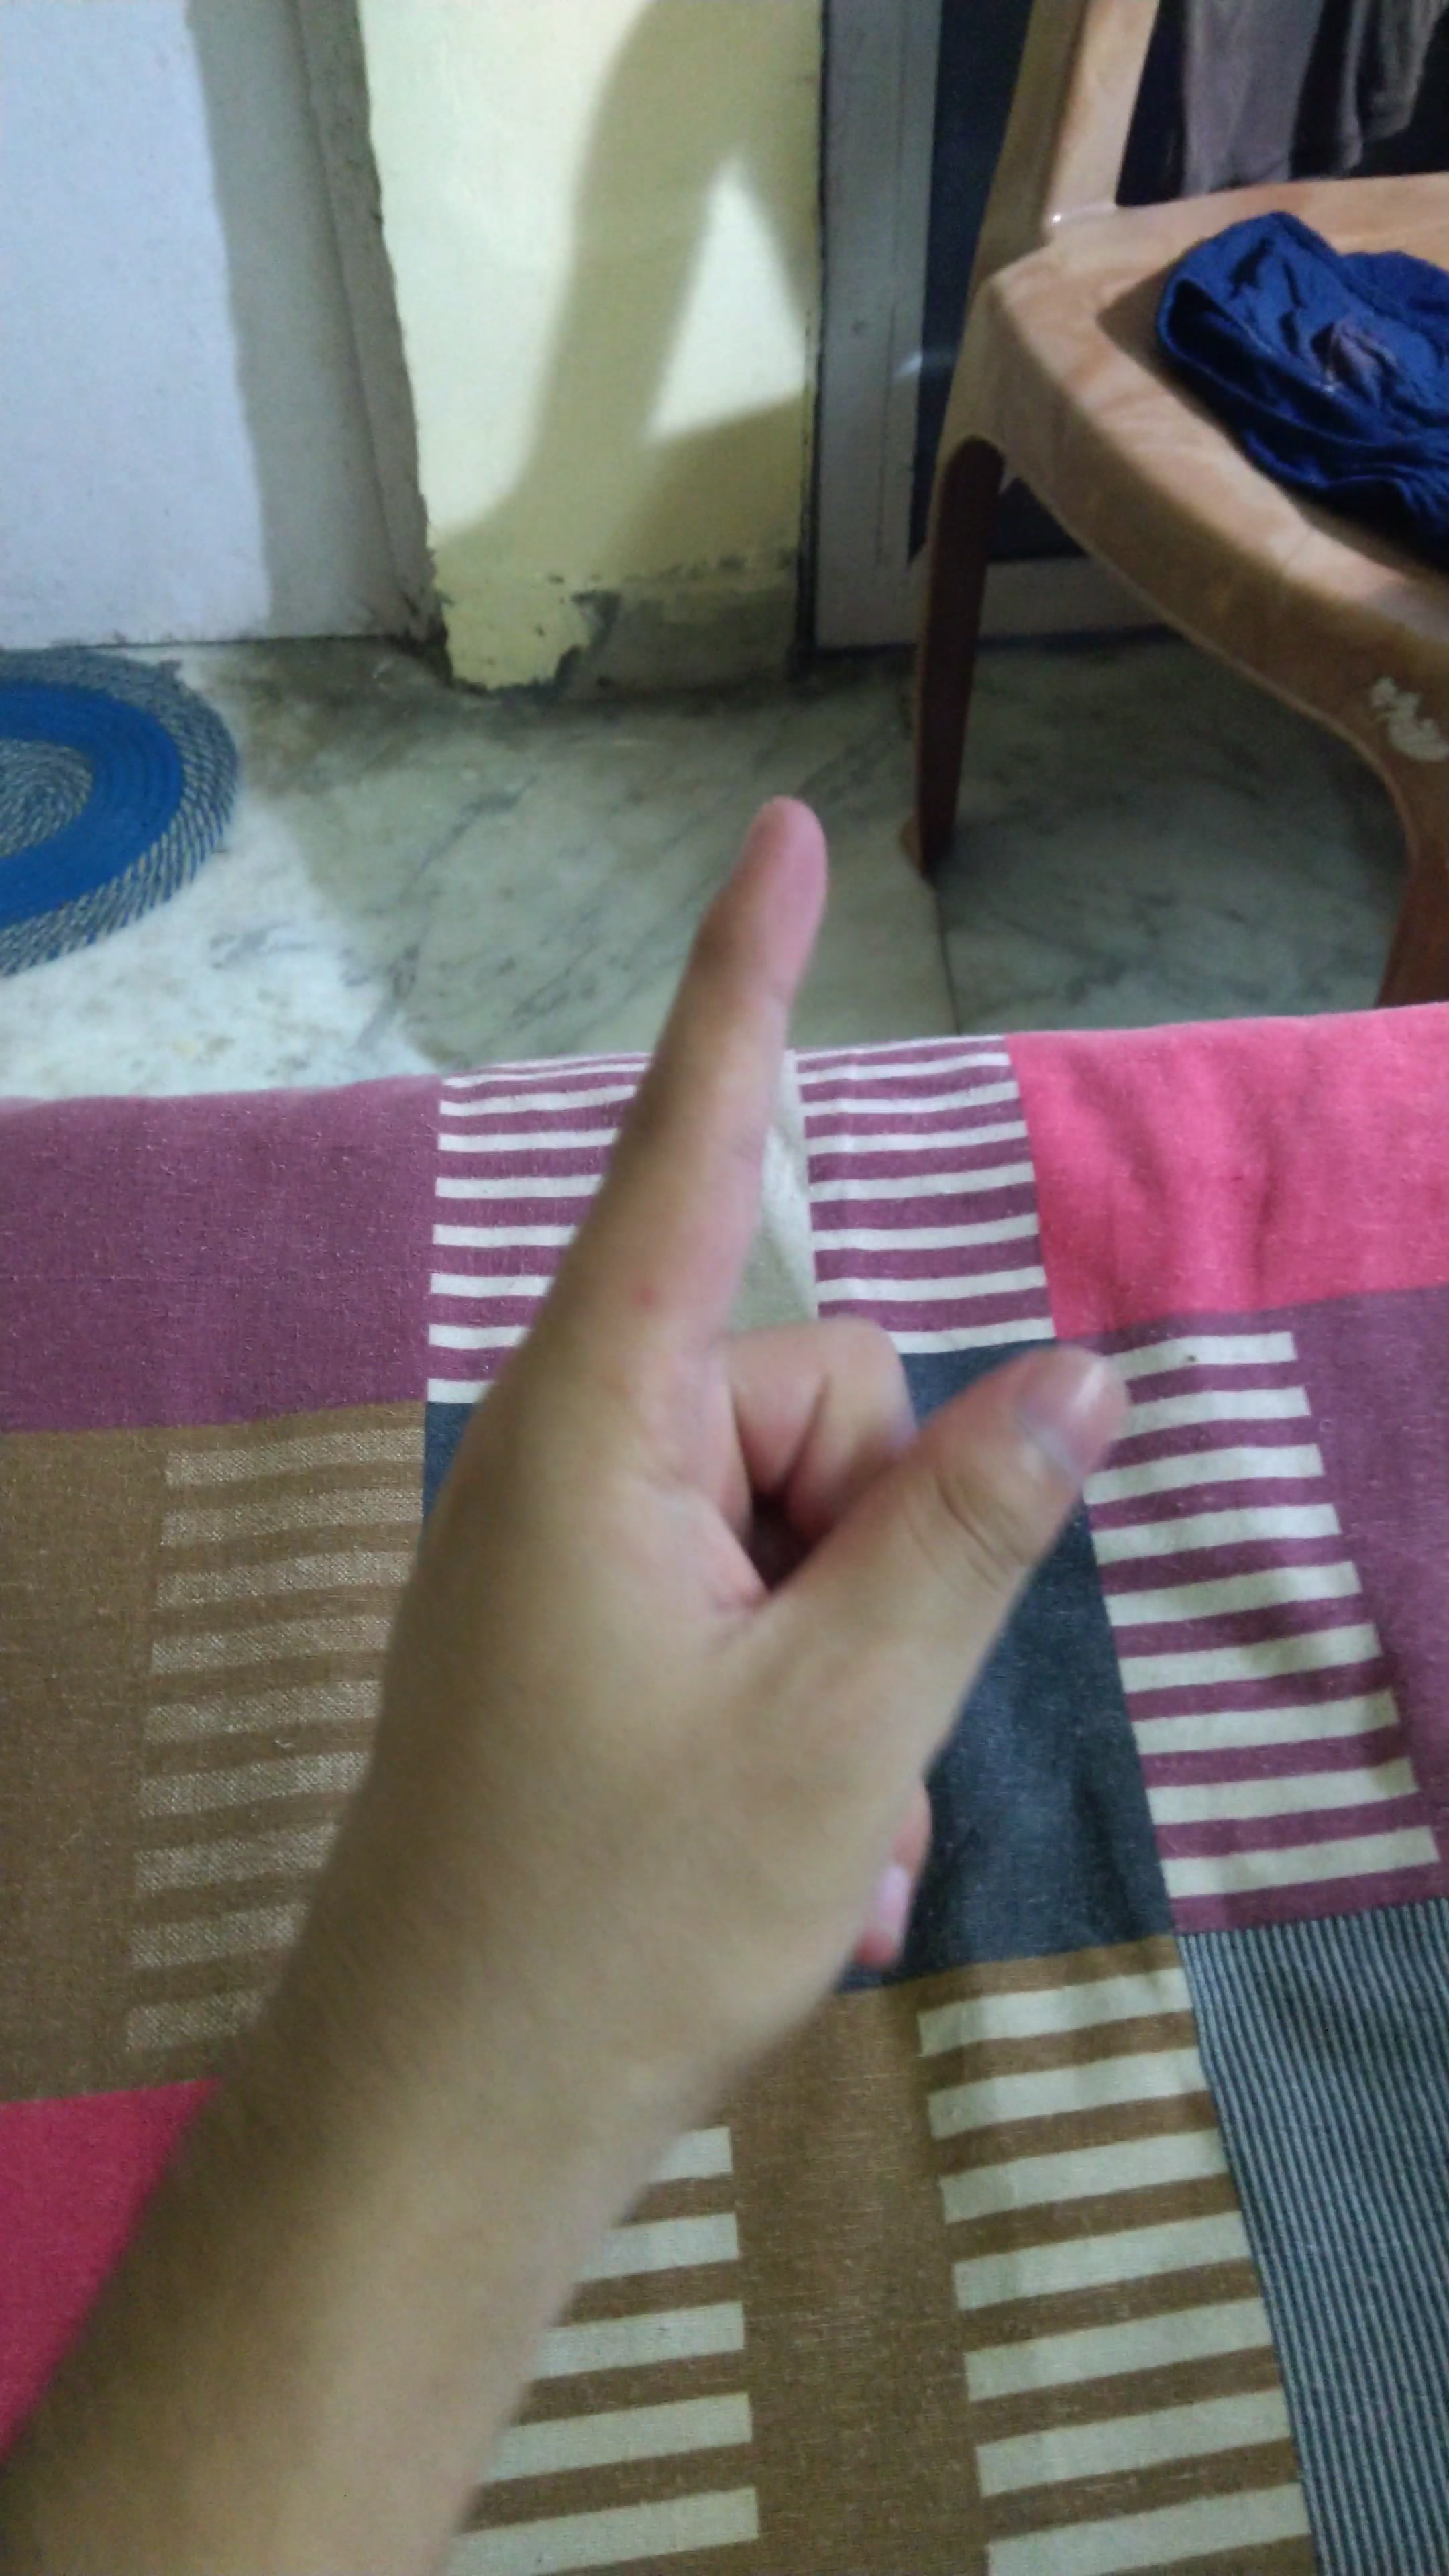hand: (269, 778, 1168, 2166)
